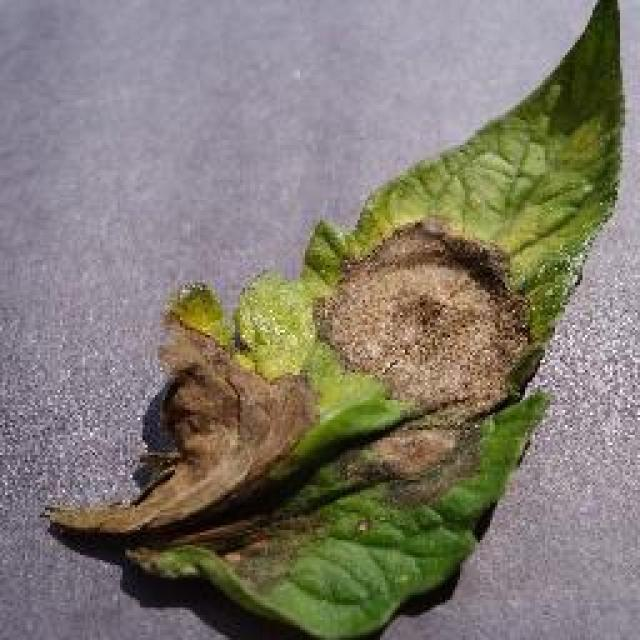Tomato Late Blight: (88, 203, 565, 557)
